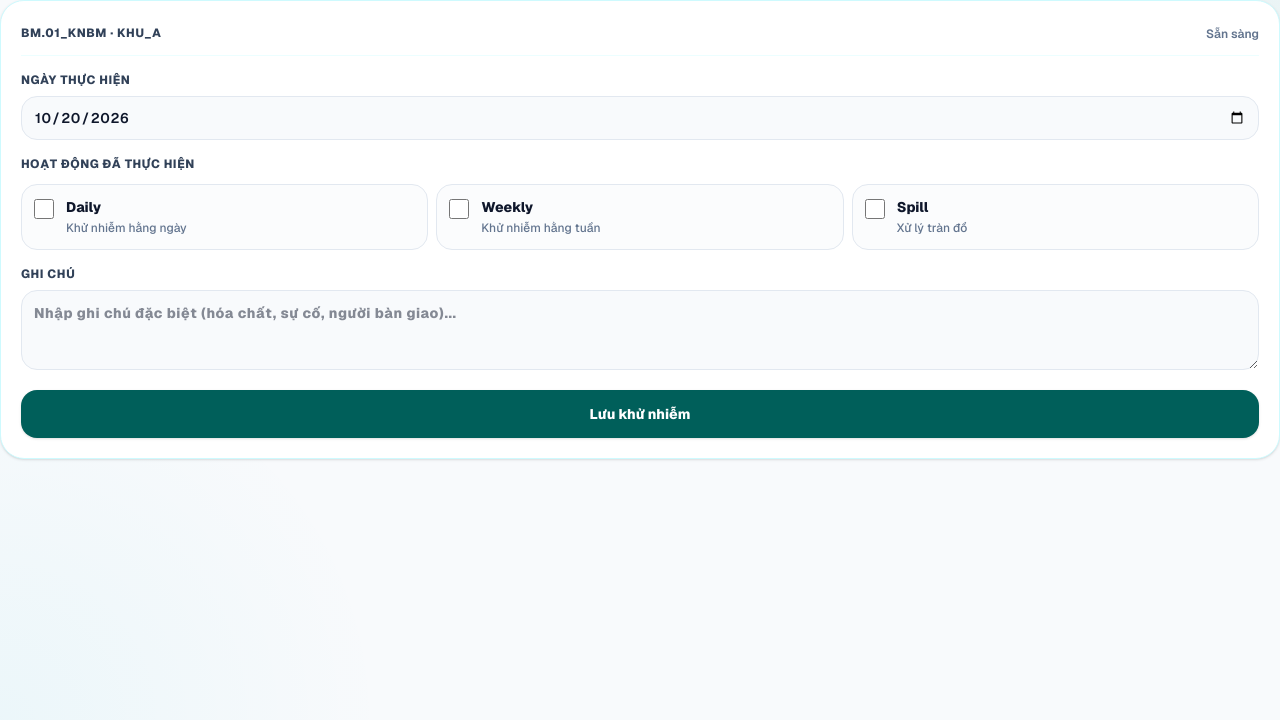
Test: Task 3: BM01_KNBM Decontamination Save Reliability › prevents submission and shows clear error if no activities are selected
The image size is (1280, 720).
Click the button "Lưu khử nhiễm" at (640, 414), box [21,390,1259,438]
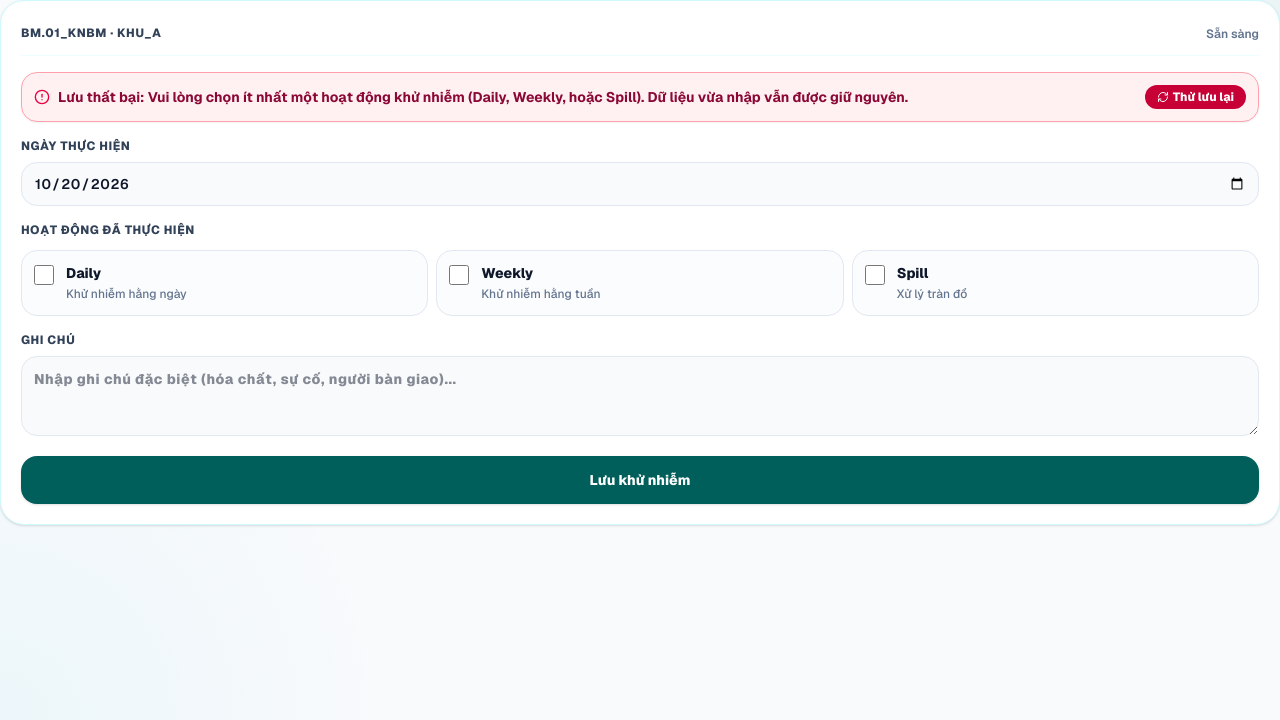
Now the text "Lưu thất bại: Vui lòng chọn ít nhất một hoạt động khử nhiễm" is shown, box [58,87,908,107]
